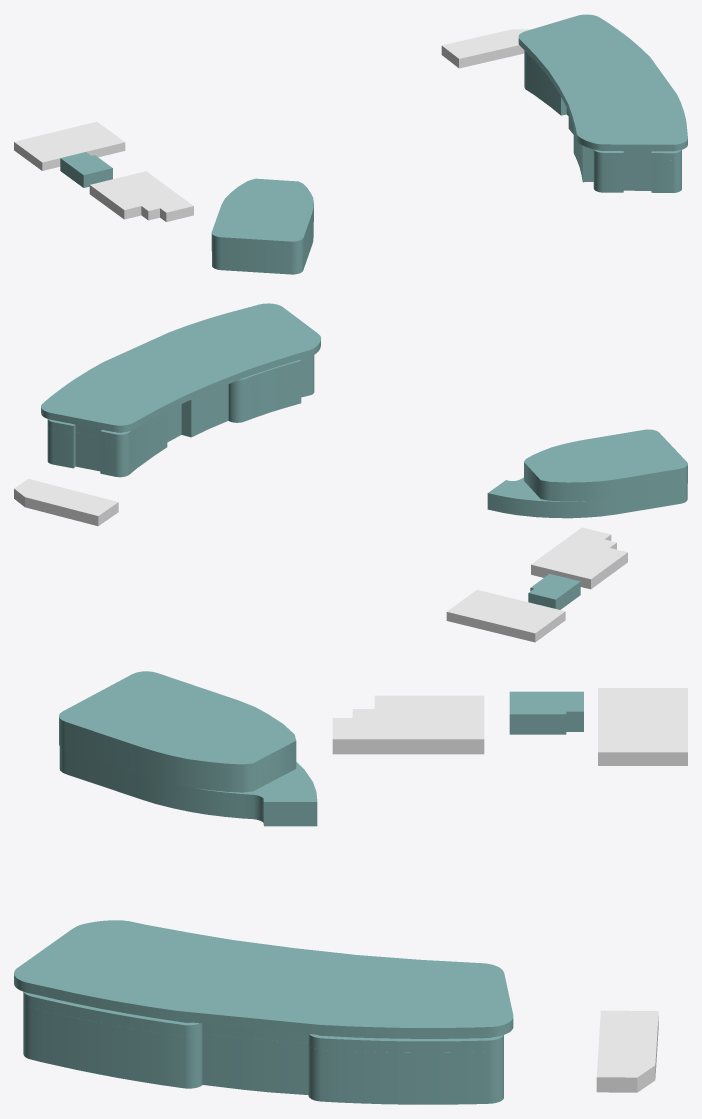
File: imgs智能电表项目-亮框-processed.glb
3 views of the same model, one above another, from view 1: azimuth 30°, elevation 25°; view 2: azimuth 150°, elevation 25°; view 3: azimuth 270°, elevation 25° (orthographic). The views are drawn at different scales.
Visible parts, largest first — view 1: ED框6f, D管_3F, 宿舍1框, 宿舍2框, 项目部框, ED框1f, ED框2f, 消防框2F, ED框3f, ED框4f, ED框5f, D管_2F (+1 smaller); view 2: ED框6f, D管_3F, 宿舍2框, 宿舍1框, ED框1f, ED框2f, 项目部框, D管_2F, ED框4f, ED框3f, ED框5f, D管_1F (+1 smaller); view 3: ED框6f, D管_3F, 宿舍1框, ED框1f, ED框2f, 宿舍2框, ED框5f, ED框4f, ED框3f, D管_2F, 项目部框, D管_1F (+2 smaller).
Part boxes in pixels (box(x1,y1,x2,y2)): ED框6f: box(518, 14, 687, 151); D管_3F: box(211, 178, 313, 259); 宿舍1框: box(89, 171, 193, 221); 宿舍2框: box(14, 121, 125, 170); 项目部框: box(441, 29, 530, 68); ED框1f: box(524, 77, 681, 192); ED框2f: box(524, 68, 681, 182); 消防框2F: box(60, 152, 112, 180); ED框3f: box(524, 62, 681, 173); ED框4f: box(524, 55, 681, 167); ED框5f: box(524, 50, 681, 160); D管_2F: box(212, 226, 313, 267); ED框6f: box(41, 303, 320, 432); D管_3F: box(524, 429, 687, 501); 宿舍2框: box(446, 590, 565, 642); 宿舍1框: box(531, 527, 627, 589); ED框1f: box(47, 382, 314, 477); ED框2f: box(47, 371, 314, 466); 项目部框: box(14, 478, 118, 526); D管_2F: box(487, 477, 687, 510); ED框4f: box(47, 358, 314, 449); ED框3f: box(47, 365, 314, 455); ED框5f: box(47, 355, 314, 442); D管_1F: box(487, 492, 687, 518); ED框6f: box(14, 920, 513, 1038); D管_3F: box(59, 671, 296, 792); 宿舍1框: box(332, 695, 484, 754); ED框1f: box(23, 1038, 503, 1104); ED框2f: box(23, 1023, 503, 1088); 宿舍2框: box(598, 688, 687, 765); ED框5f: box(23, 991, 503, 1052); ED框4f: box(23, 1003, 503, 1063); ED框3f: box(23, 1013, 503, 1073); D管_2F: box(59, 746, 317, 814); 项目部框: box(596, 1010, 658, 1092); D管_1F: box(59, 758, 317, 826).
Bounding box in the file's own units: 450 × 41.58 × 315.
